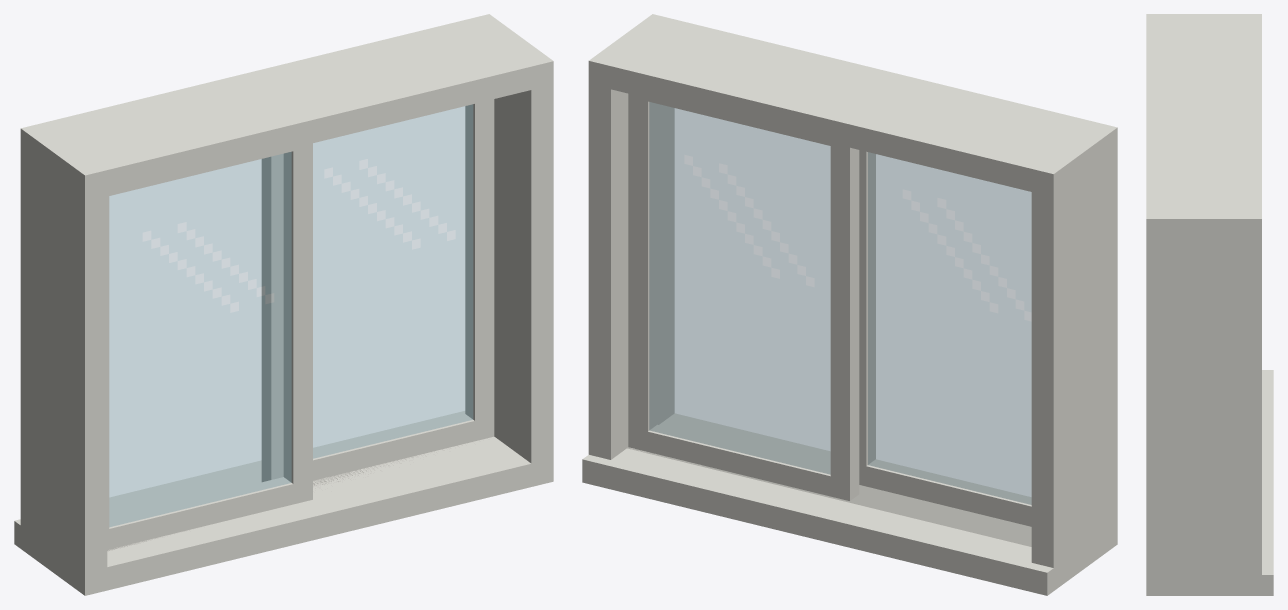
File: t_window_no_curtains.glb
The picture shows the model from 3 angles, left to right: view 1: azimuth 30°, elevation 25°; view 2: azimuth 150°, elevation 25°; view 3: azimuth 270°, elevation 25°; orthographic projection. The views are drawn at different scales.
Visible parts, largest first — view 1: block_slider-glass, block_fixed-glass, block_lintel, block_stile-1, block_sill, block_stile1, block_slider-r, block_fixed-r, block_fixed-l, block_slider-bottom, block_fixed-bottom, block_slider-l (+1 smaller); view 2: block_fixed-glass, block_slider-glass, block_lintel, block_stile-1, block_sill, block_stile1, block_fixed-l, block_fixed-r, block_fixed-bottom, block_slider-r, block_slider-bottom, block_track (+1 smaller); view 3: block_stile1, block_lintel, block_sill, block_stile-1.
Part boxes in pixels (bbox=[...]): block_slider-glass: bbox=[109, 152, 291, 526]; block_fixed-glass: bbox=[313, 104, 473, 458]; block_lintel: bbox=[20, 14, 553, 198]; block_stile-1: bbox=[20, 123, 107, 595]; block_sill: bbox=[14, 411, 553, 595]; block_stile1: bbox=[471, 14, 553, 486]; block_slider-r: bbox=[283, 143, 312, 501]; block_fixed-r: bbox=[465, 99, 494, 437]; block_fixed-l: bbox=[261, 154, 283, 481]; block_slider-bottom: bbox=[107, 477, 312, 549]; block_fixed-bottom: bbox=[261, 414, 494, 481]; block_slider-l: bbox=[107, 194, 109, 529]; block_fixed-glass: bbox=[649, 102, 830, 474]; block_slider-glass: bbox=[868, 152, 1031, 504]; block_lintel: bbox=[588, 14, 1117, 197]; block_stile-1: bbox=[1031, 122, 1117, 590]; block_sill: bbox=[582, 413, 1117, 595]; block_stile1: bbox=[588, 15, 674, 459]; block_fixed-l: bbox=[830, 143, 859, 500]; block_fixed-r: bbox=[628, 94, 657, 448]; block_fixed-bottom: bbox=[628, 425, 859, 500]; block_slider-r: bbox=[859, 150, 875, 465]; block_slider-bottom: bbox=[859, 459, 1031, 526]; block_track: bbox=[627, 447, 1031, 546]; block_stile1: bbox=[1146, 209, 1261, 595]; block_lintel: bbox=[1146, 14, 1261, 239]; block_sill: bbox=[1146, 370, 1273, 595]; block_stile-1: bbox=[1146, 14, 1261, 23].
Bounding box in the file's own units: 0.84 × 0.72 × 0.22.
2 materials, 2 textured.
